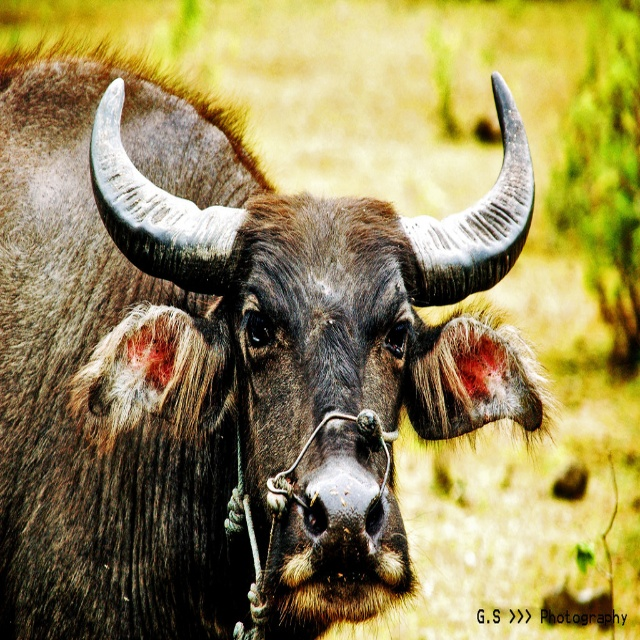Cattle: (1, 22, 563, 639)
